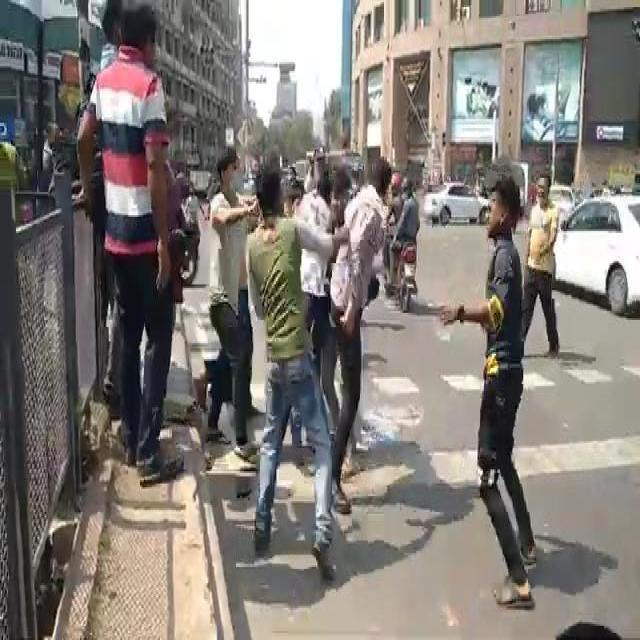fight: (208, 114, 417, 542), (448, 130, 590, 594), (72, 0, 194, 416)
